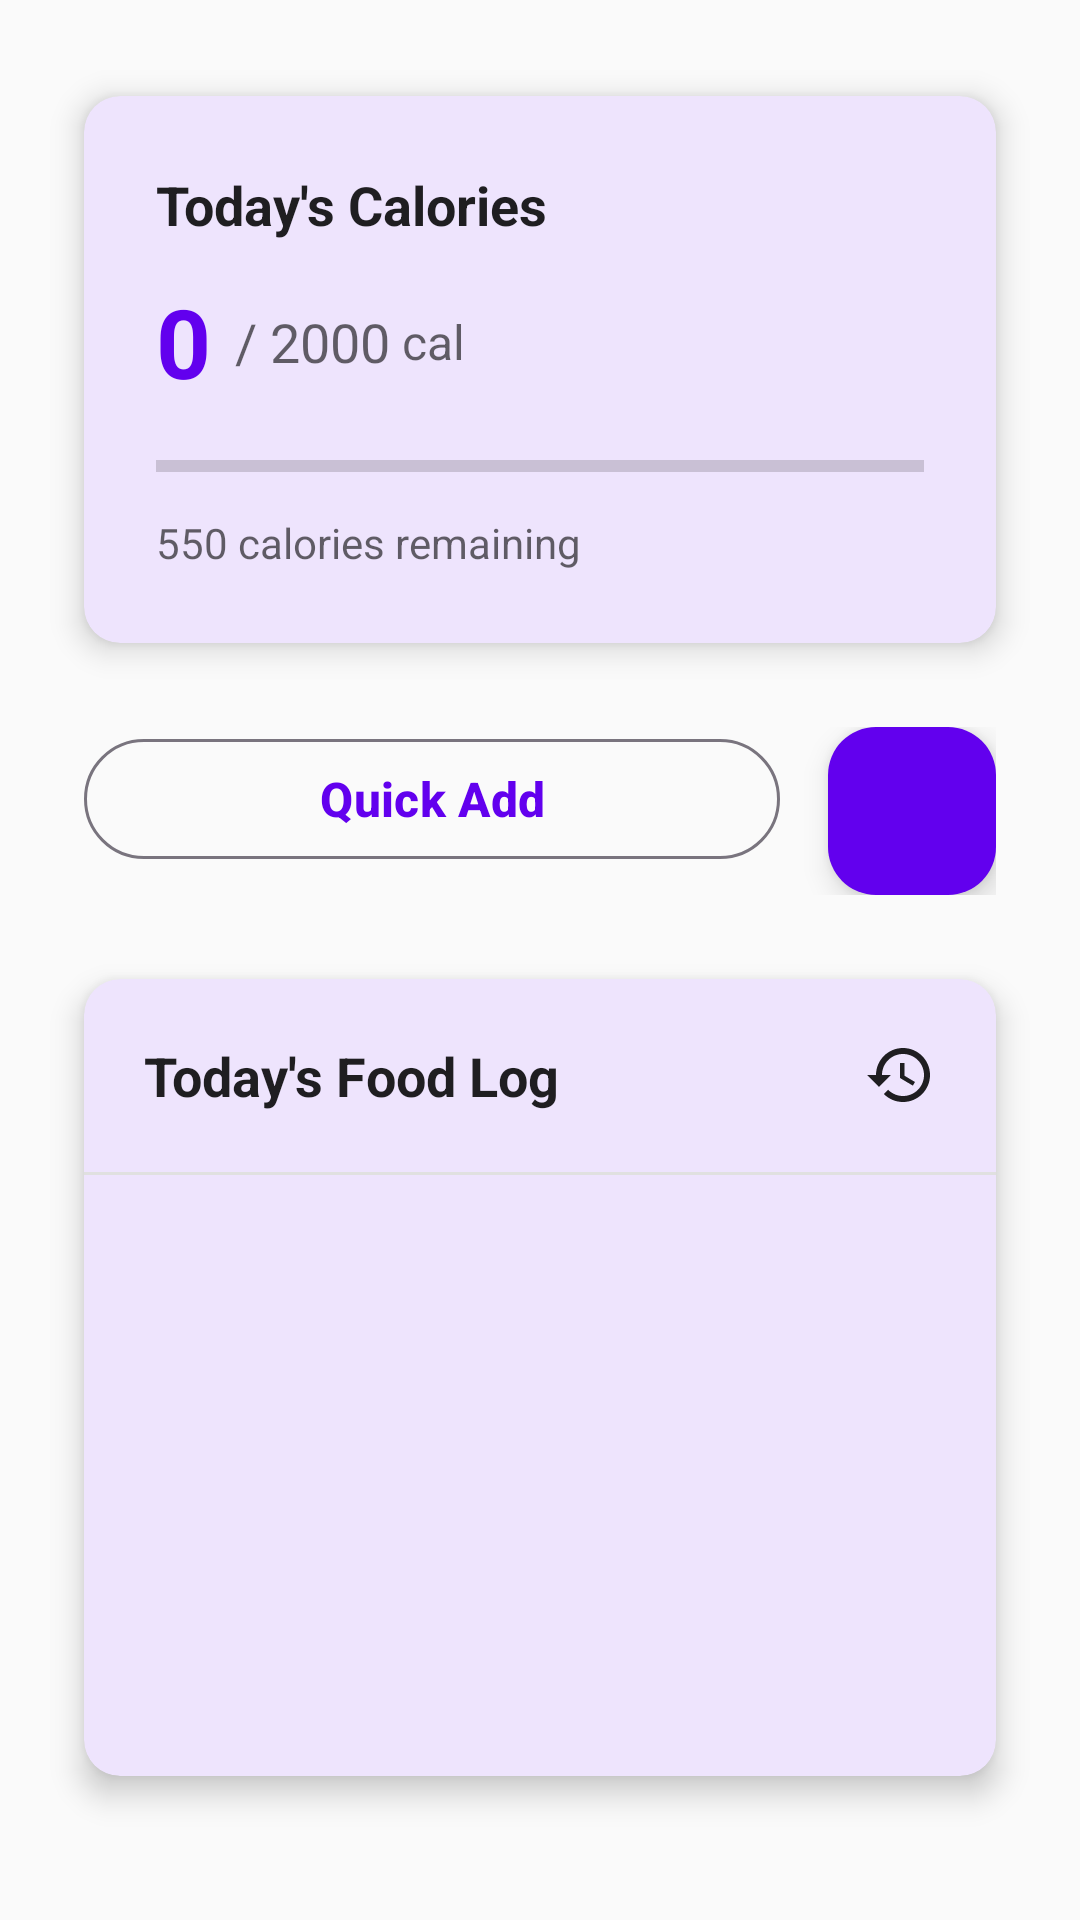

Icon click points for this 1080×1920 phone screenshot, format (x,y):
View history: (898,1075)
